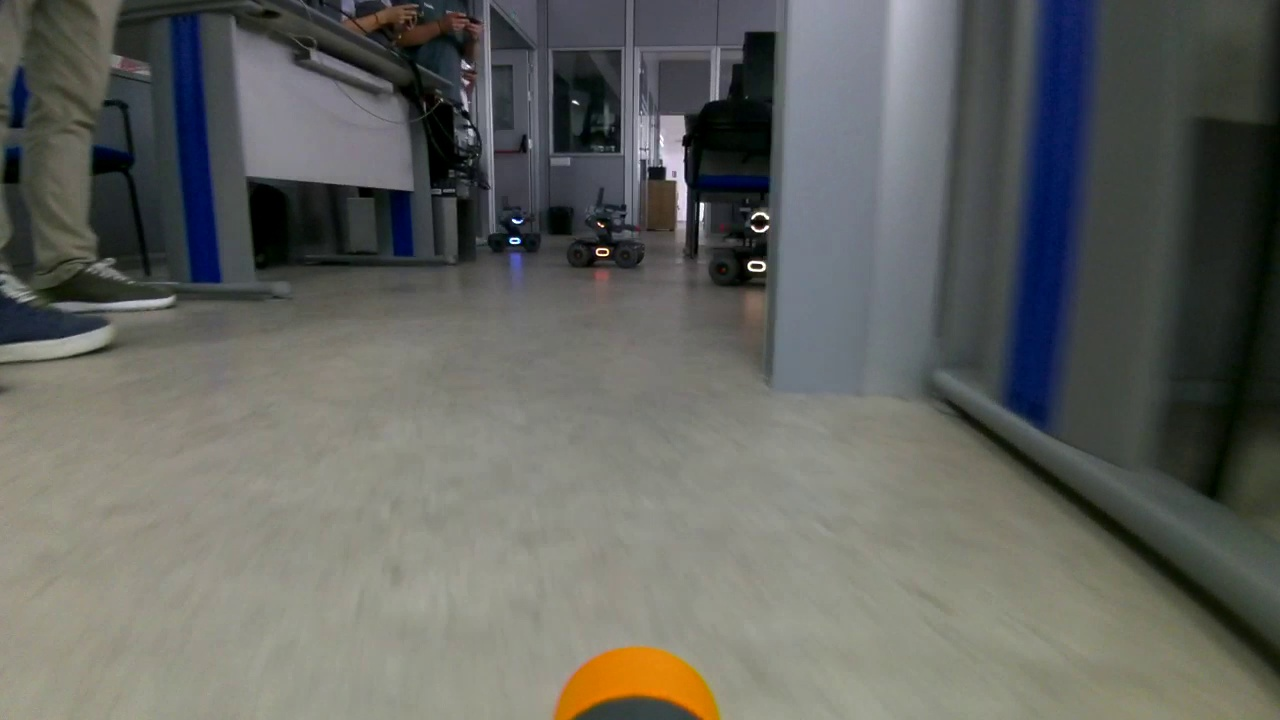robot: (566, 187, 655, 270), (701, 192, 775, 284), (484, 193, 549, 261)
